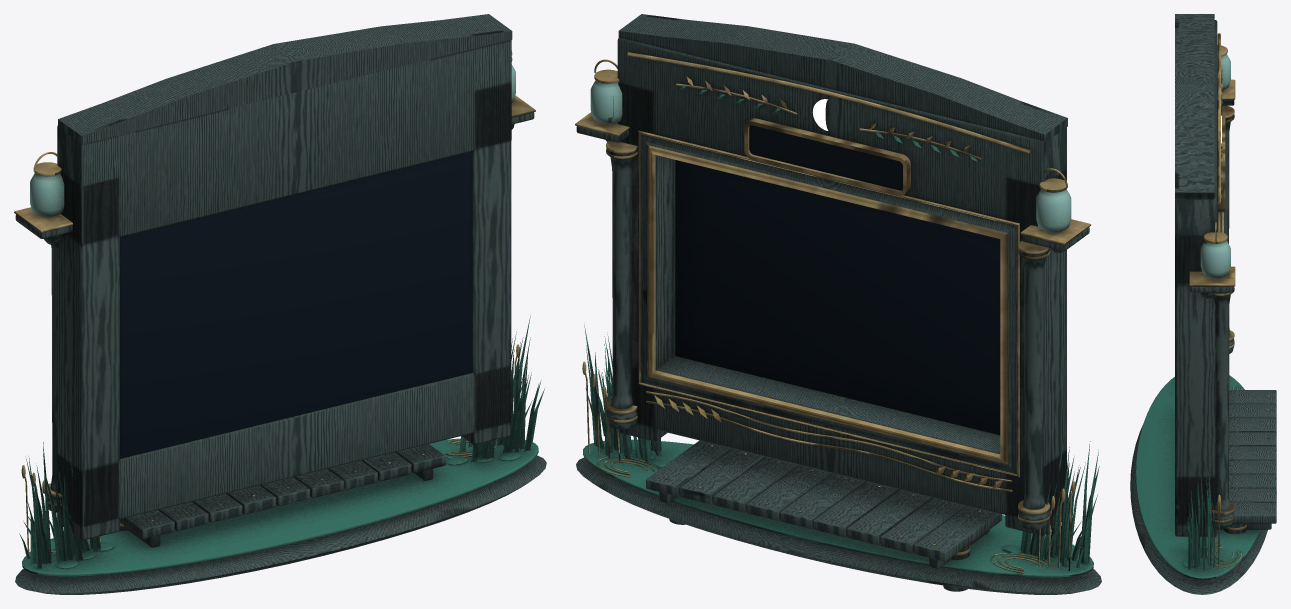
3 views of the same model, side by side, from view 1: azimuth 30°, elevation 25°; view 2: azimuth 150°, elevation 25°; view 3: azimuth 270°, elevation 25° (orthographic). The views are drawn at different scales.
Visible parts, largest first — view 1: Moonwashed_dock_oak, Uniform_midnight_inset, Meadow_jade, Warm_antique_bronze, Sage_glass; view 2: Moonwashed_dock_oak, Uniform_midnight_inset, Warm_antique_bronze, Meadow_jade, Sage_glass; view 3: Moonwashed_dock_oak, Meadow_jade, Warm_antique_bronze, Sage_glass.
Boxes of the visible parts, x1=… form: Moonwashed_dock_oak: x1=15, y1=14, x2=546, y2=594; Uniform_midnight_inset: x1=120, y1=151, x2=472, y2=458; Meadow_jade: x1=19, y1=317, x2=544, y2=576; Warm_antique_bronze: x1=14, y1=51, x2=535, y2=555; Sage_glass: x1=30, y1=64, x2=515, y2=217; Moonwashed_dock_oak: x1=576, y1=14, x2=1101, y2=594; Uniform_midnight_inset: x1=675, y1=125, x2=1000, y2=434; Warm_antique_bronze: x1=575, y1=52, x2=1090, y2=573; Meadow_jade: x1=583, y1=86, x2=1099, y2=577; Sage_glass: x1=590, y1=80, x2=1071, y2=233; Moonwashed_dock_oak: x1=1130, y1=14, x2=1276, y2=594; Meadow_jade: x1=1135, y1=74, x2=1260, y2=579; Warm_antique_bronze: x1=1189, y1=33, x2=1269, y2=571; Sage_glass: x1=1200, y1=54, x2=1230, y2=278.
Size of the model in its own units: 10.24 by 9.1 by 2.91.
6 materials, 5 textured.
